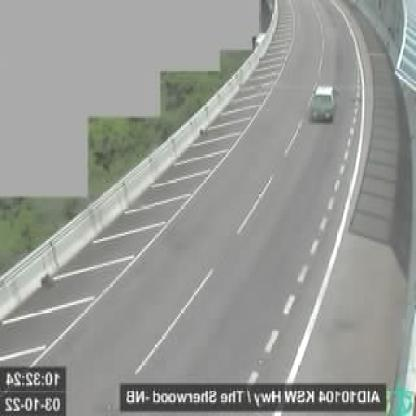Car: (311, 83, 339, 120)
